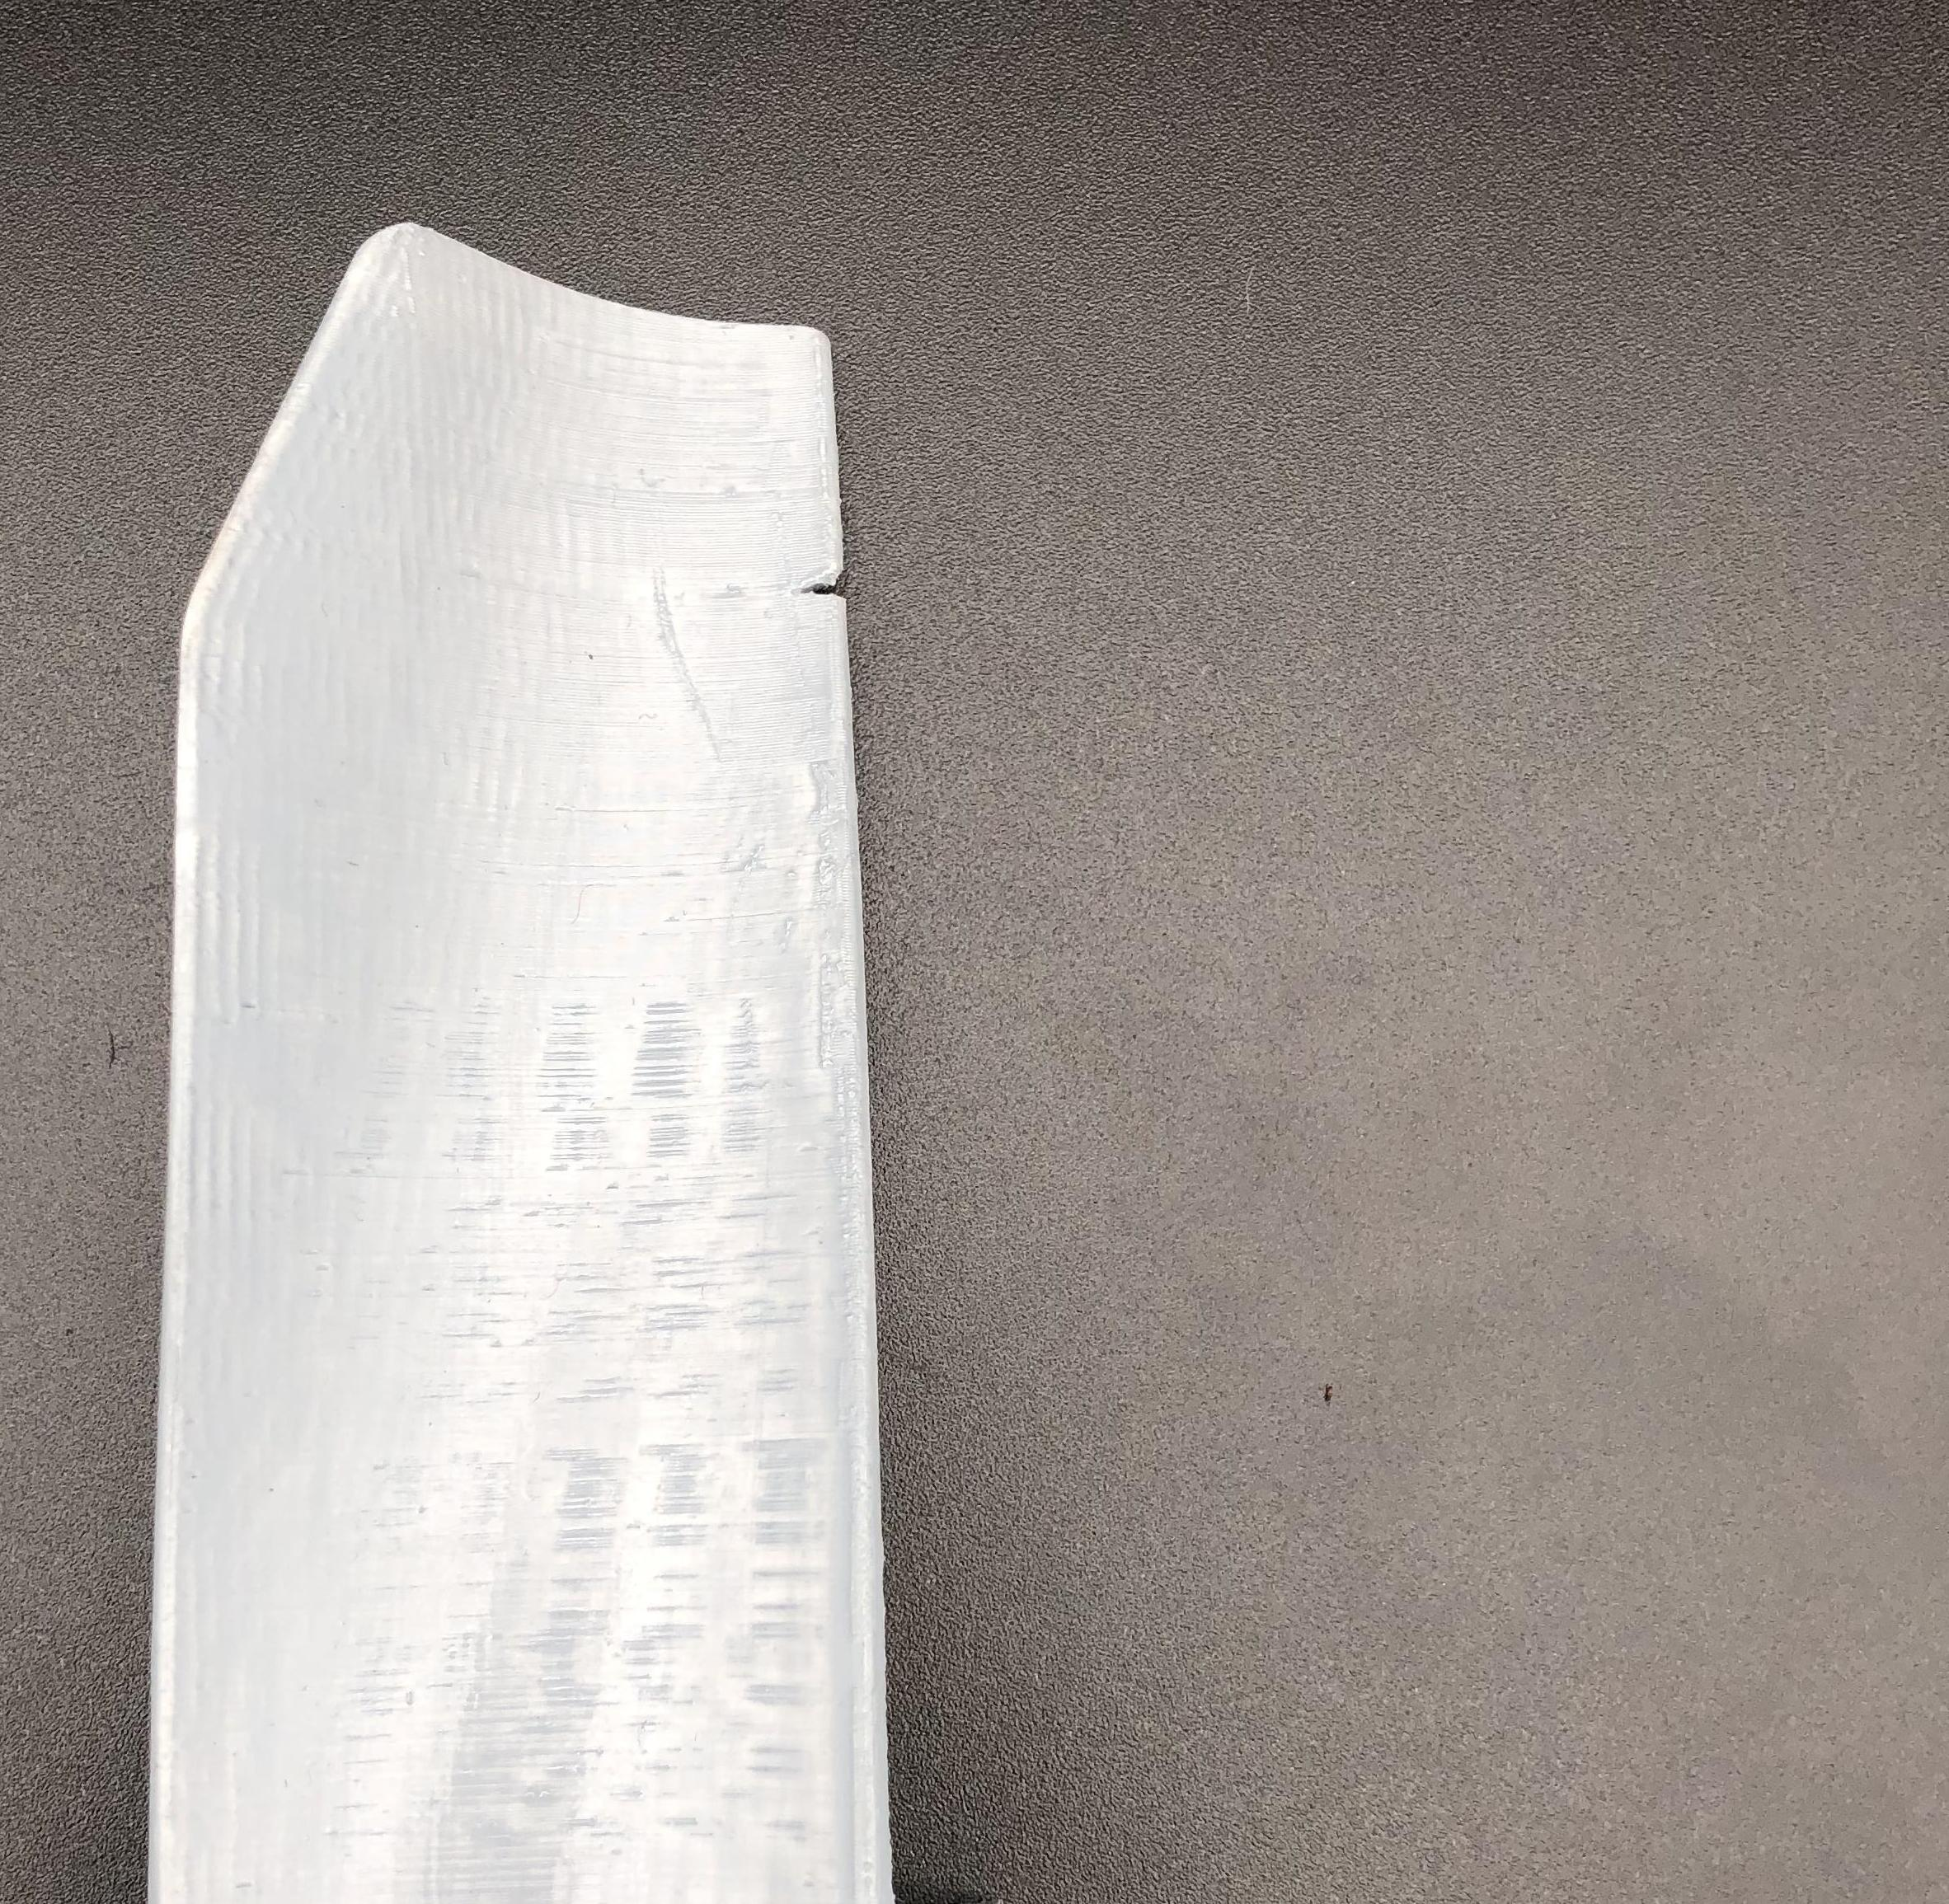groove: (797, 568, 845, 605)
